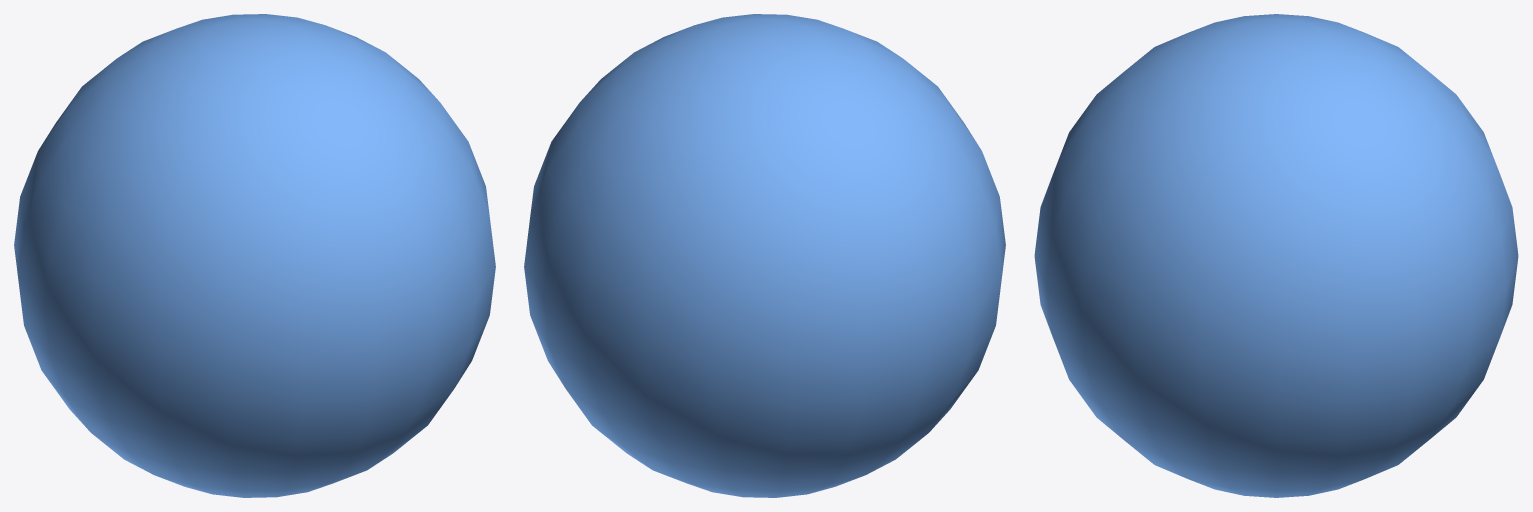
Rendered from balloon_blue.glb.
3 views of the same model, side by side, from view 1: azimuth 30°, elevation 25°; view 2: azimuth 150°, elevation 25°; view 3: azimuth 270°, elevation 25° (orthographic).
Visible parts, largest first — view 1: primitive; view 2: primitive; view 3: primitive.
Part boxes in pixels (x1,y1,x2,y2): primitive: (14,14,495,497); primitive: (524,14,1005,497); primitive: (1034,14,1518,497).
Size of the model in its own units: 0.24 by 0.24 by 0.24.
